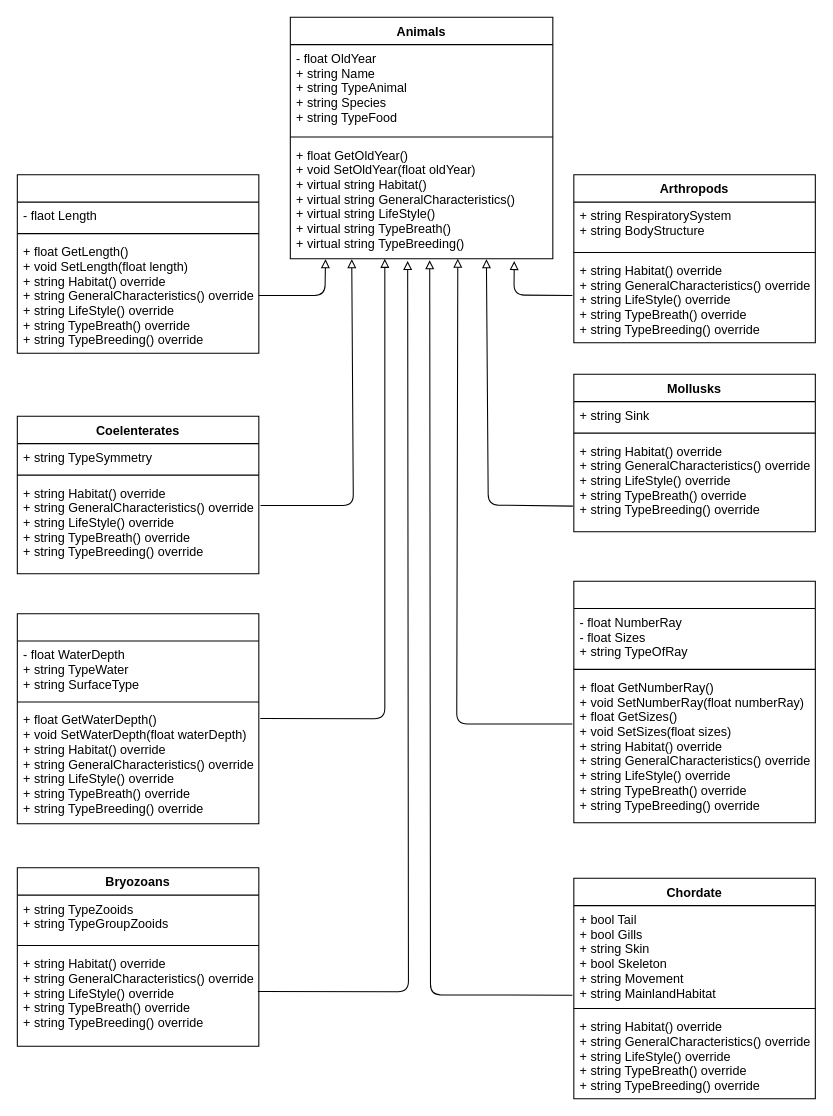
This 833x1116 diagram has some shape labels left out. Here are the shapes that lost their labels. From the top down, the box of each, then its label:
(16, 174, 259, 353): Worms
(16, 613, 259, 824): Sponges
(573, 580, 815, 823): Echinoderms
